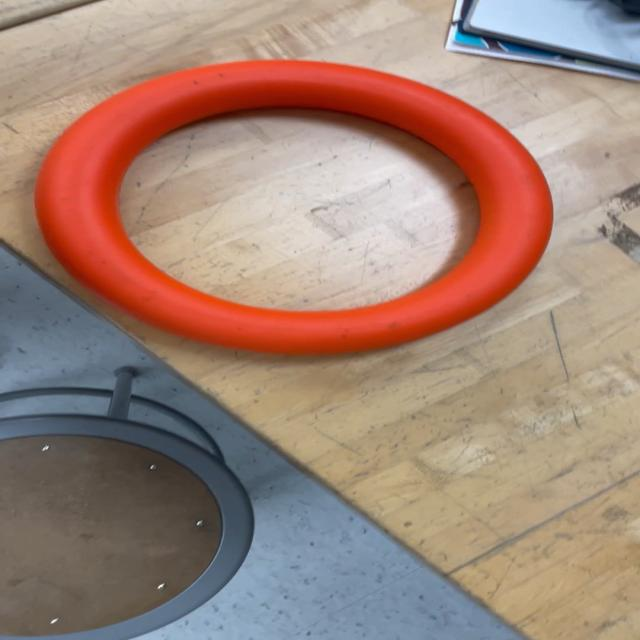note: (20, 62, 571, 349)
